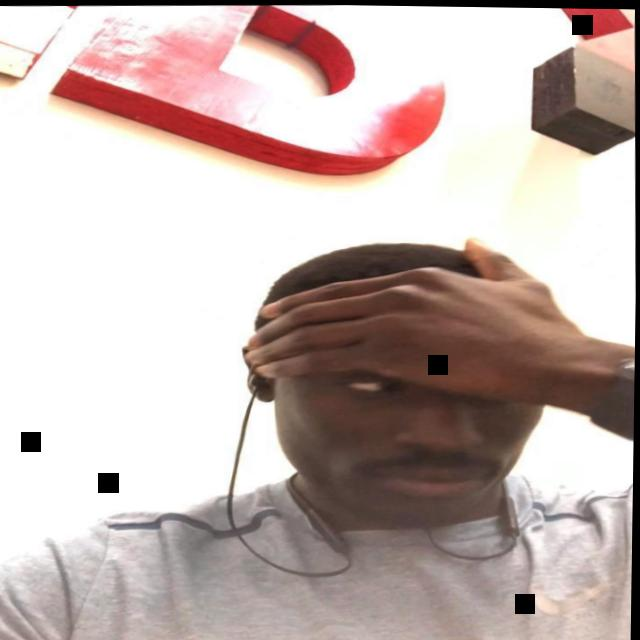NO-Mask: (266, 303, 549, 525)
